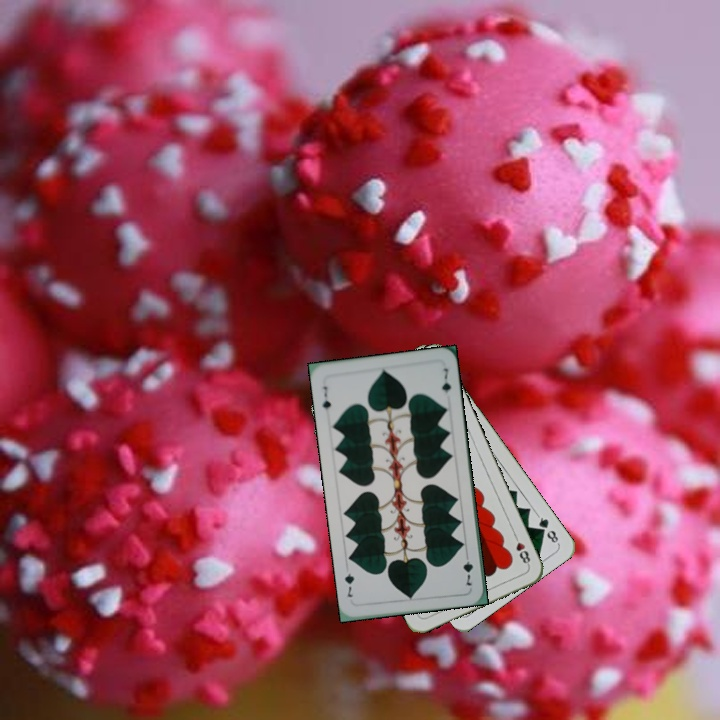G7: (459, 549, 476, 588), (318, 382, 333, 417)
G8: (533, 511, 561, 547)
H8: (510, 530, 533, 568)
